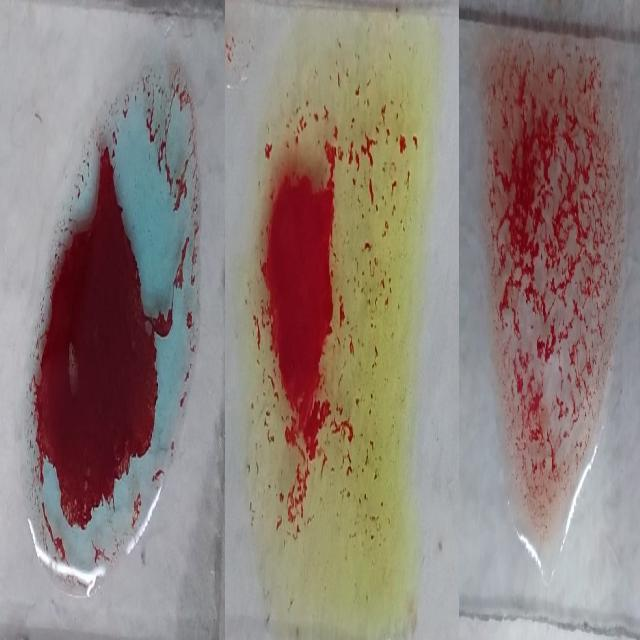A: (18, 58, 199, 587)
B: (244, 32, 405, 630)
D: (482, 30, 613, 554)
